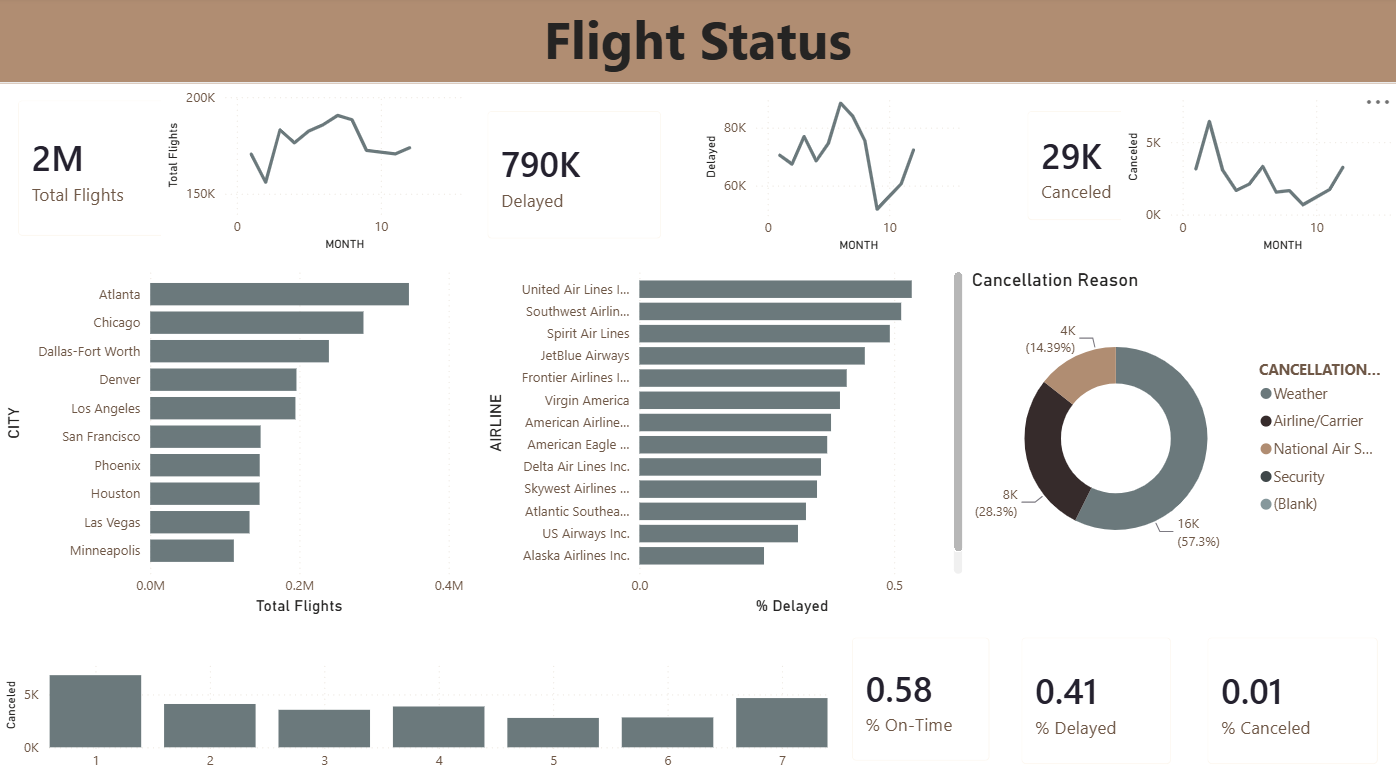

What the dashboard file says about the page in this screenshot:
{"tool":"powerbi","page":{"name":"Flight Status","canvas":[1280,720],"ordinal":0},"visuals":[{"type":"cardVisual","fields":{"Data":["flights.Total Flights"]},"box":[0,78.6,201.2,158.4],"z":0,"group":"g2"},{"type":"cardVisual","fields":{"Data":["flights.Delayed"]},"box":[429.5,87.2,193.8,151.4],"z":0,"group":"g1"},{"type":"cardVisual","fields":{"Data":["flights.Canceled"]},"box":[923.1,87.2,151.4,134.8],"z":0,"group":"g3"},{"type":"clusteredBarChart","fields":{"Y":["flights.Total Flights"],"Category":["airports.CITY"]},"box":[0,238.6,430,331.4],"z":0},{"type":"lineChart","fields":{"Y":["flights.Total Flights"],"Category":["flights.MONTH"]},"box":[147.6,78.6,281.6,159],"z":1000,"group":"g2"},{"type":"lineChart","fields":{"Y":["flights.Delayed"],"Category":["flights.MONTH"]},"box":[641.5,79.6,243.8,159],"z":1000,"group":"g1"},{"type":"lineChart","fields":{"Category":["flights.MONTH"],"Y":["flights.Canceled"]},"box":[1026.1,79.6,254.4,159],"z":1000,"group":"g3"},{"type":"clusteredBarChart","title":"% Delayed Flights by AIRLINE","fields":{"Category":["airlines.AIRLINE"],"Y":["flights.% Delayed"]},"box":[440,238.6,445.7,331.4],"z":1000},{"type":"group","id":"g1","title":"Group 2","box":[429.5,79.6,455.8,159],"z":2000,"group":"g3"},{"type":"donutChart","title":"Cancellation Reason","fields":{"Category":["cancellation_codes.CANCELLATION_DESCRIPTION"],"Y":["Sum(flights.CANCELLED)"]},"box":[885.7,250,385.7,290],"z":2000},{"type":"clusteredColumnChart","title":"Cancellation by Day of Week","fields":{"Y":["flights.Canceled"],"Category":["flights.DAY_OF_WEEK"]},"box":[0,595.7,762.9,121.4],"z":3000},{"type":"cardVisual","fields":{"Data":["flights.% On-Time"]},"box":[762.9,570,160,147.1],"z":4000},{"type":"cardVisual","fields":{"Data":["flights.% Canceled"]},"box":[1088.6,570,190,150],"z":5000},{"type":"cardVisual","fields":{"Data":["flights.% Delayed"]},"box":[918.6,570,171.4,150],"z":6000},{"type":"group","id":"g2","title":"Group 1","box":[0,78.6,430,158.6],"z":7000},{"type":"group","id":"g3","title":"Group 3","box":[429.5,79.6,850.8,157.8],"z":8000},{"type":"textbox","box":[0,0,1278.6,80],"z":9000}]}

Visuals, with their boxes in screenshot pixels (x1, y1, x2, y2), scaled from the page's 1280x720 canvas onto the 1396x783 screenshot:
cardVisual - flights.Total Flights: <box>0,85,219,258</box>
cardVisual - flights.Delayed: <box>468,95,680,259</box>
cardVisual - flights.Canceled: <box>1007,95,1172,241</box>
clusteredBarChart - flights.Total Flights x airports.CITY: <box>0,259,469,620</box>
lineChart - flights.Total Flights x flights.MONTH: <box>161,85,468,258</box>
lineChart - flights.Delayed x flights.MONTH: <box>700,87,966,259</box>
lineChart - flights.MONTH x flights.Canceled: <box>1119,87,1395,259</box>
"% Delayed Flights by AIRLINE" clusteredBarChart: <box>480,259,966,620</box>
"Group 2" group: <box>468,87,966,259</box>
"Cancellation Reason" donutChart: <box>966,272,1387,587</box>
"Cancellation by Day of Week" clusteredColumnChart: <box>0,648,832,780</box>
cardVisual - flights.% On-Time: <box>832,620,1007,780</box>
cardVisual - flights.% Canceled: <box>1187,620,1394,782</box>
cardVisual - flights.% Delayed: <box>1002,620,1189,782</box>
"Group 1" group: <box>0,85,469,258</box>
"Group 3" group: <box>468,87,1395,258</box>
textbox: <box>0,0,1394,87</box>
